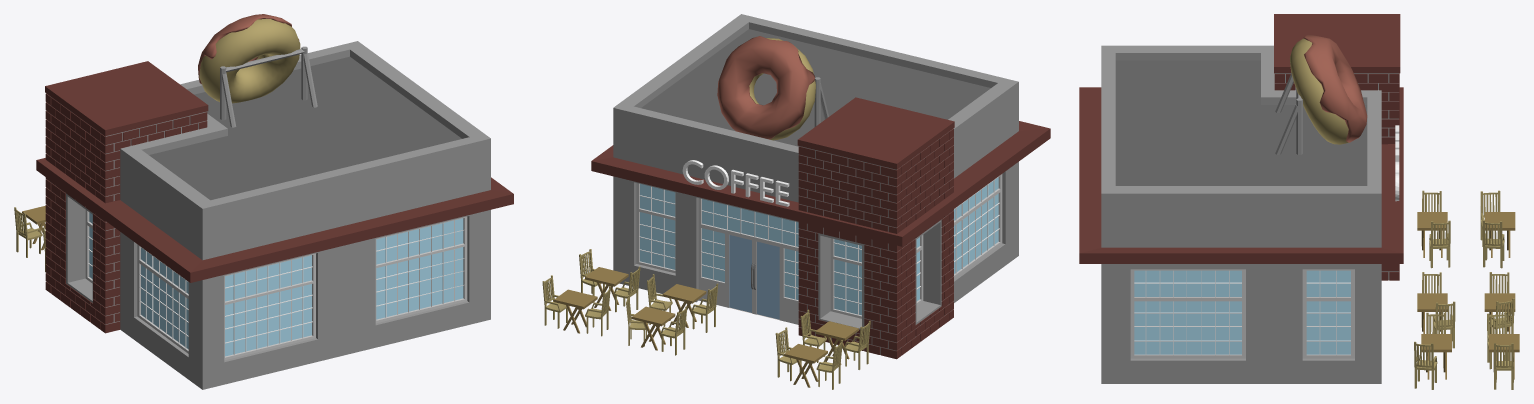
The model's file is office2-transformed.glb.
The picture shows the model from 3 angles, left to right: view 1: azimuth 30°, elevation 25°; view 2: azimuth 150°, elevation 25°; view 3: azimuth 270°, elevation 25°; orthographic projection. The views are drawn at different scales.
Visible parts, largest first — view 1: city_private_houses.905; view 2: city_private_houses.905; view 3: city_private_houses.905.
Boxes of the visible parts, x1,y1,x2,y2 form: city_private_houses.905: [14, 14, 513, 389]; city_private_houses.905: [542, 14, 1050, 389]; city_private_houses.905: [1079, 14, 1519, 389].
Bounding box in the file's own units: 11.21 × 8.67 × 12.56.
1 material, 1 textured.
